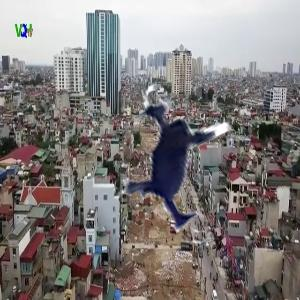drone: (85, 67, 274, 256)
